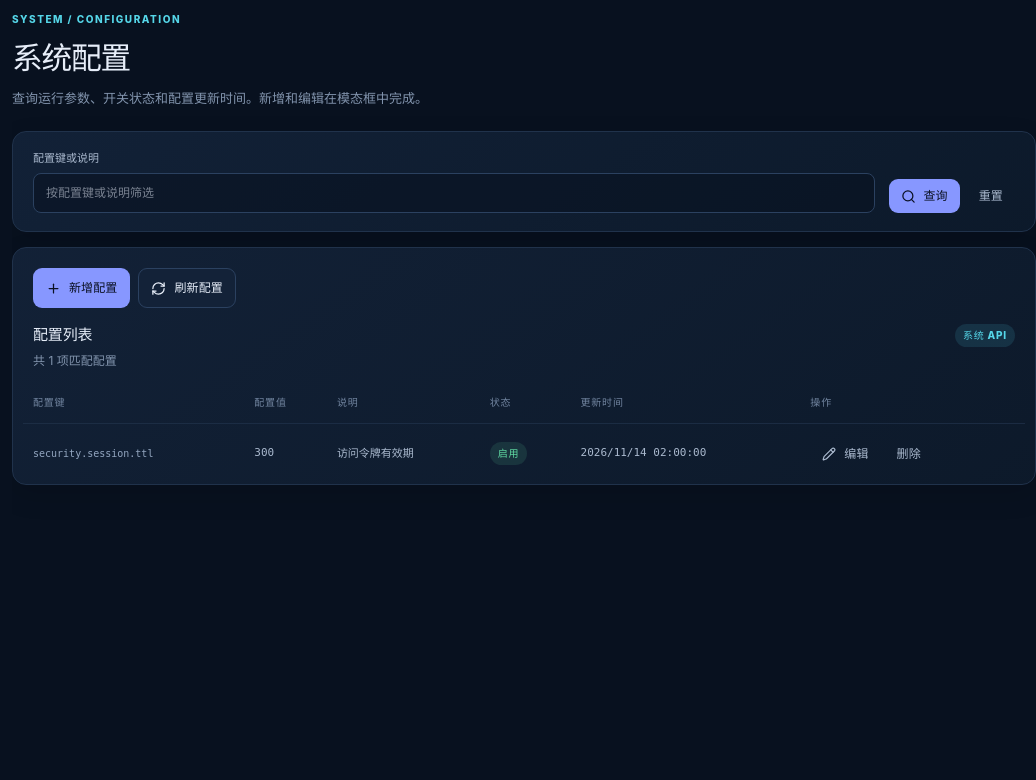
Test: ConfigsPage › 刷新失败时保留当前页并显示重试反馈
Expected: the text "security.session.ttl" is shown, [33,448,153,459]
What coordinates should you click on to do the following:
click the button "刷新配置"
I would click on:
 (187, 288)
Its box is [138,268,236,308].
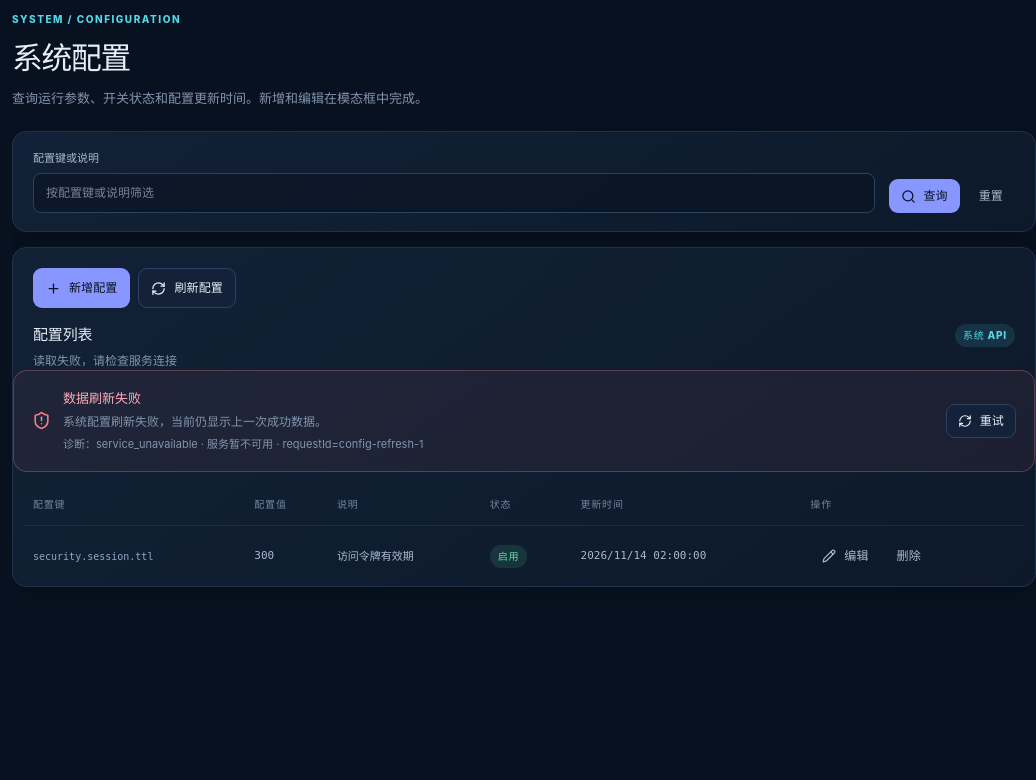
Expected: the text "security.session.ttl" is shown, [33,551,153,562]
Now the message shows "config-refresh-1", box [96,437,423,451]
